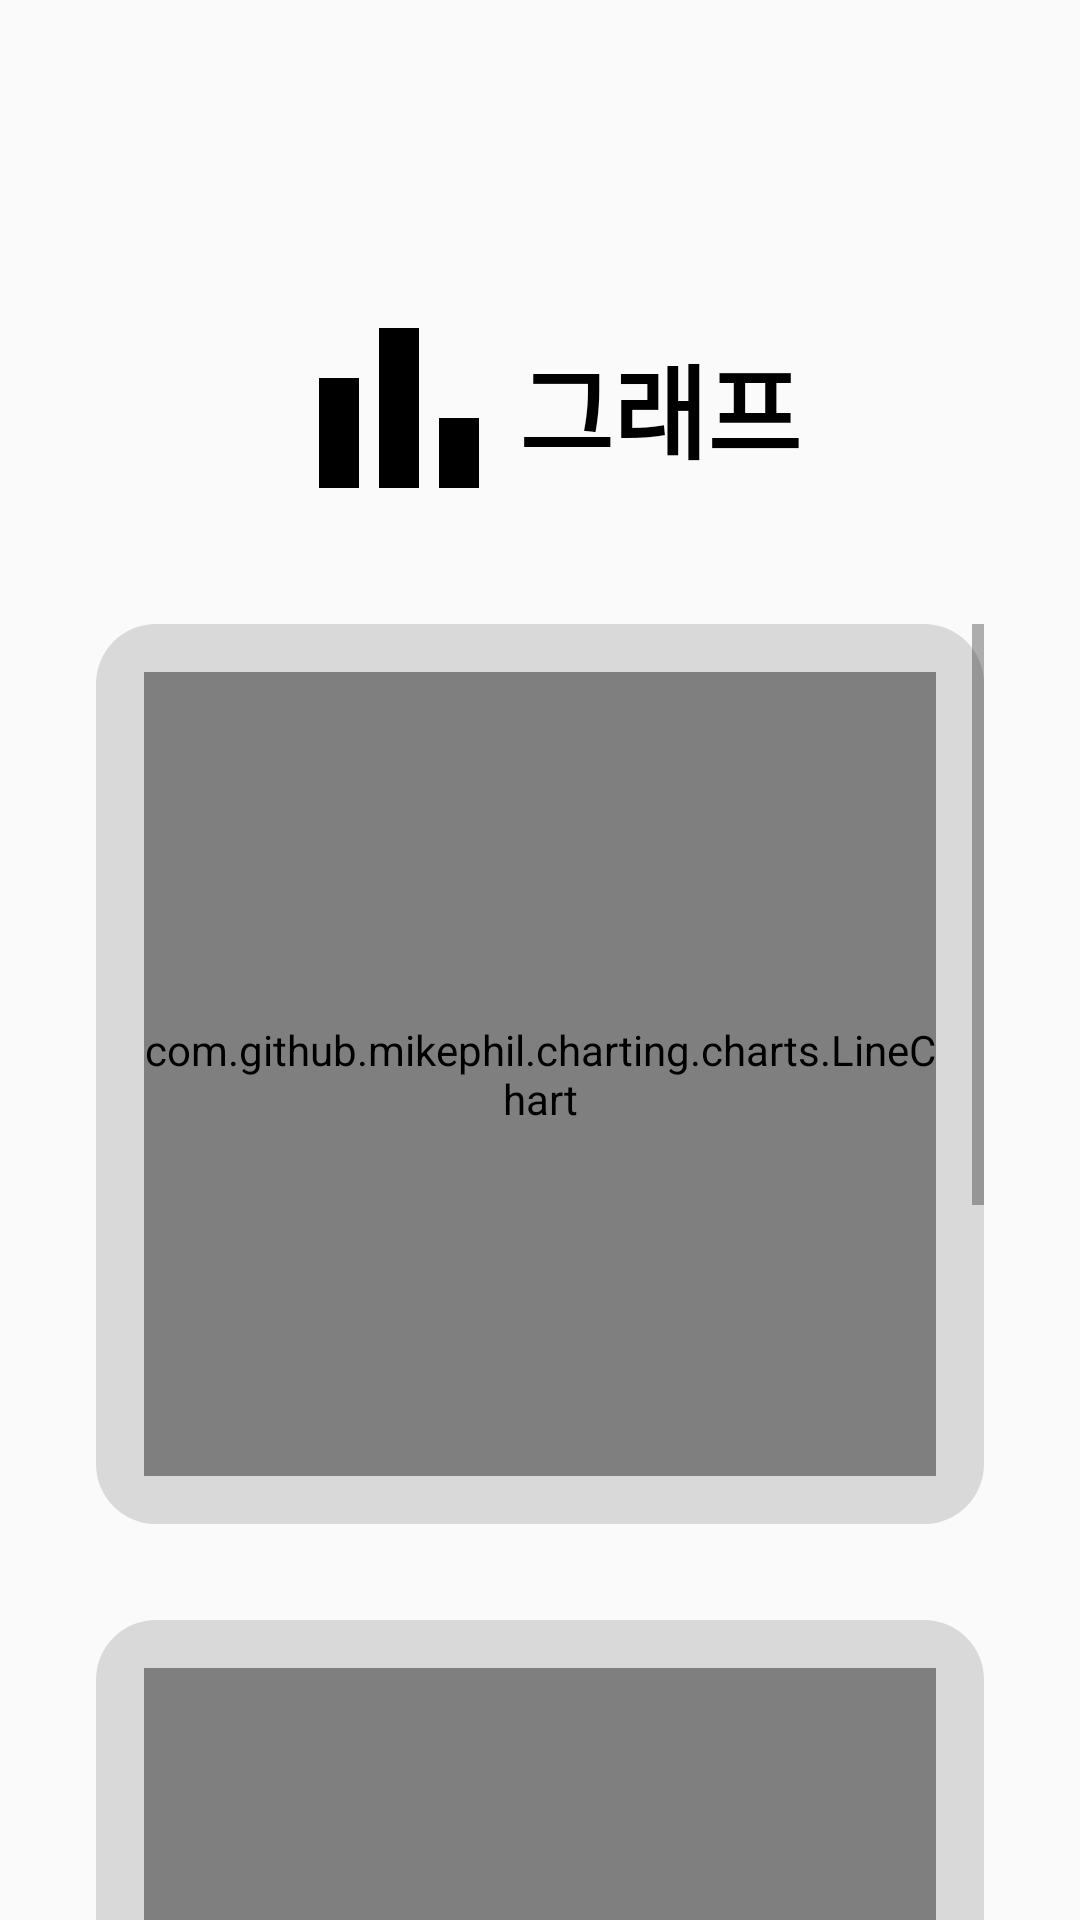

Where to tap for icons on this 1080*1920 app screen, as [x,y]:
bar chart: [399,408]
